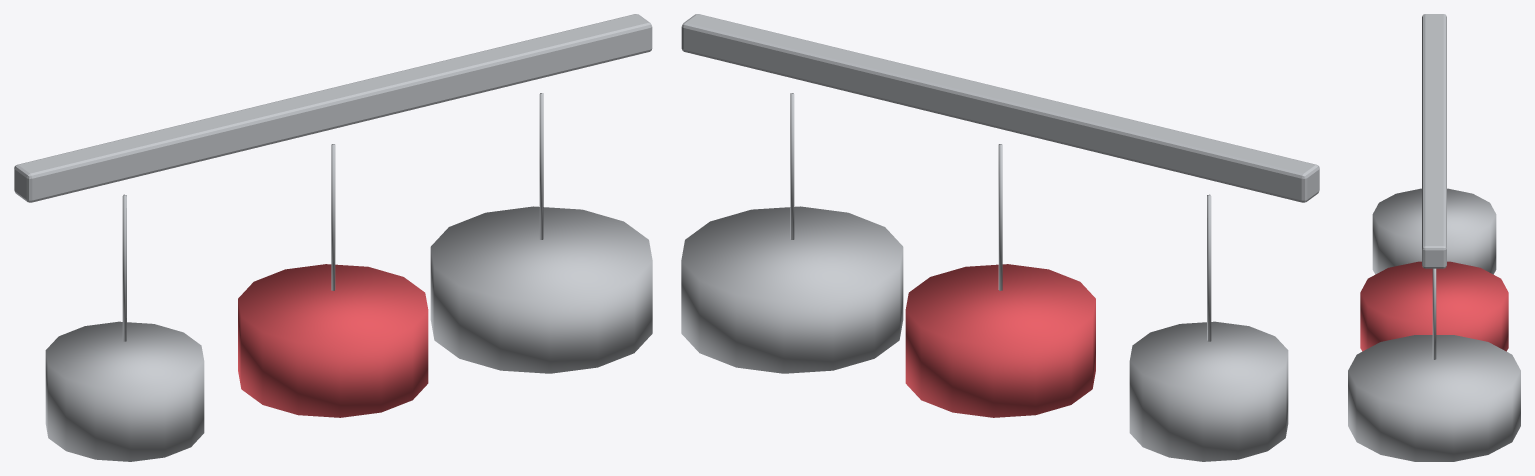
The model's file is HangingPots.fbx.
3 views of the same model, side by side, from view 1: azimuth 30°, elevation 25°; view 2: azimuth 150°, elevation 25°; view 3: azimuth 270°, elevation 25° (orthographic). The views are drawn at different scales.
Parts seen in each view (by area): view 1: HangingPots; view 2: HangingPots; view 3: HangingPots.
Part boxes in pixels (x1=…): HangingPots: x1=14, y1=14, x2=652, y2=461; HangingPots: x1=681, y1=14, x2=1319, y2=461; HangingPots: x1=1348, y1=14, x2=1520, y2=461.
Bounding box in the file's own units: 90 × 39 × 28.
